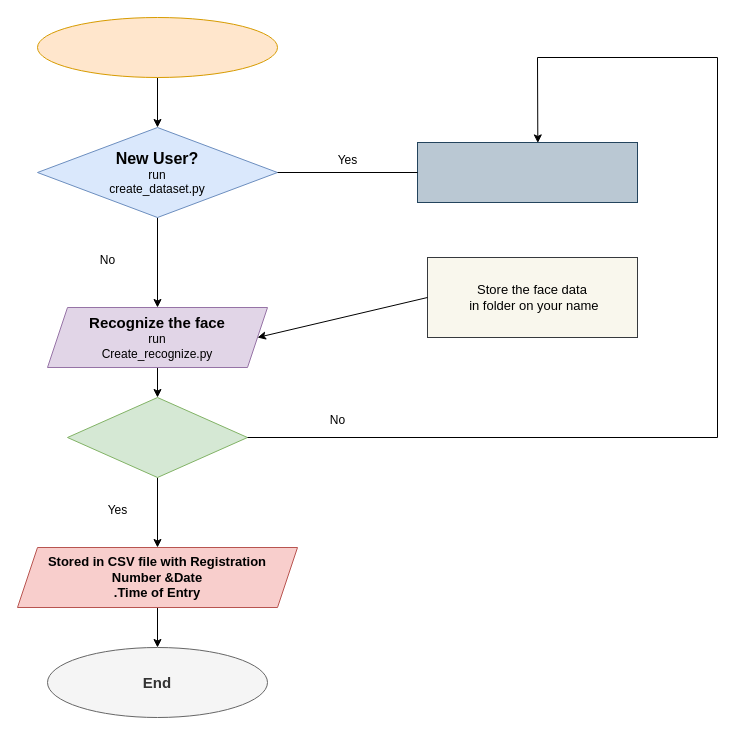
Some shapes in this 736 by 735 pixel diagram are drawn without their labels. Each missing label, with the centre of its shape:
"Face Recogniszed" belongs at point 157,437.
"Give Your Photograph" belongs at point 527,172.
"Start" belongs at point 157,47.
